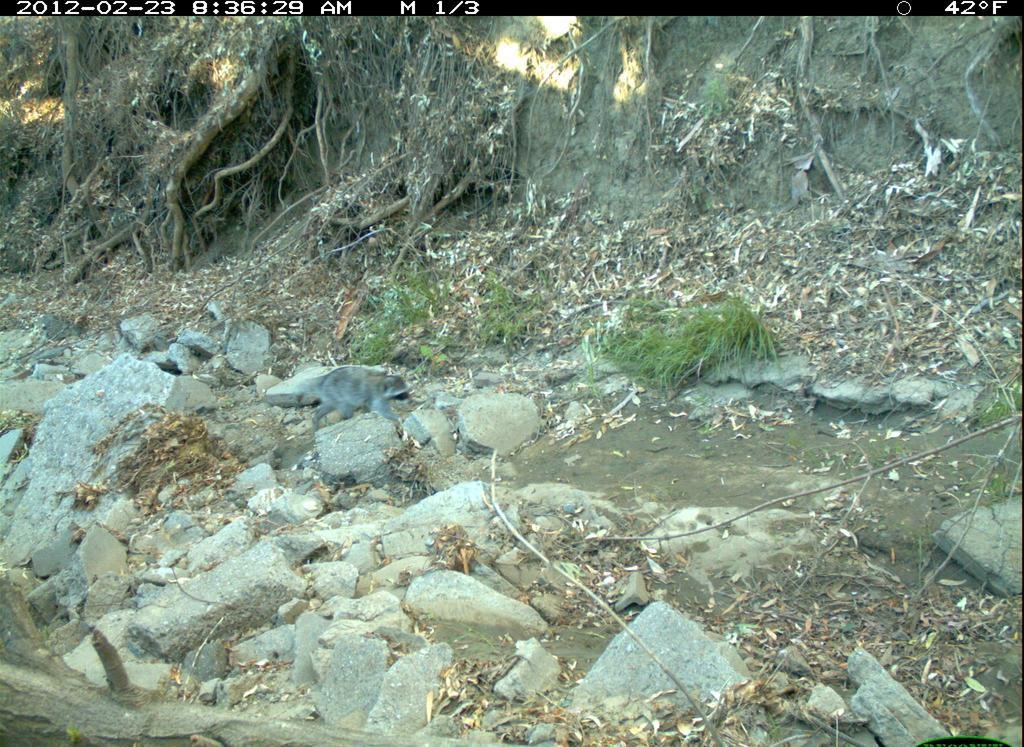raccoon: (286, 359, 419, 432)
